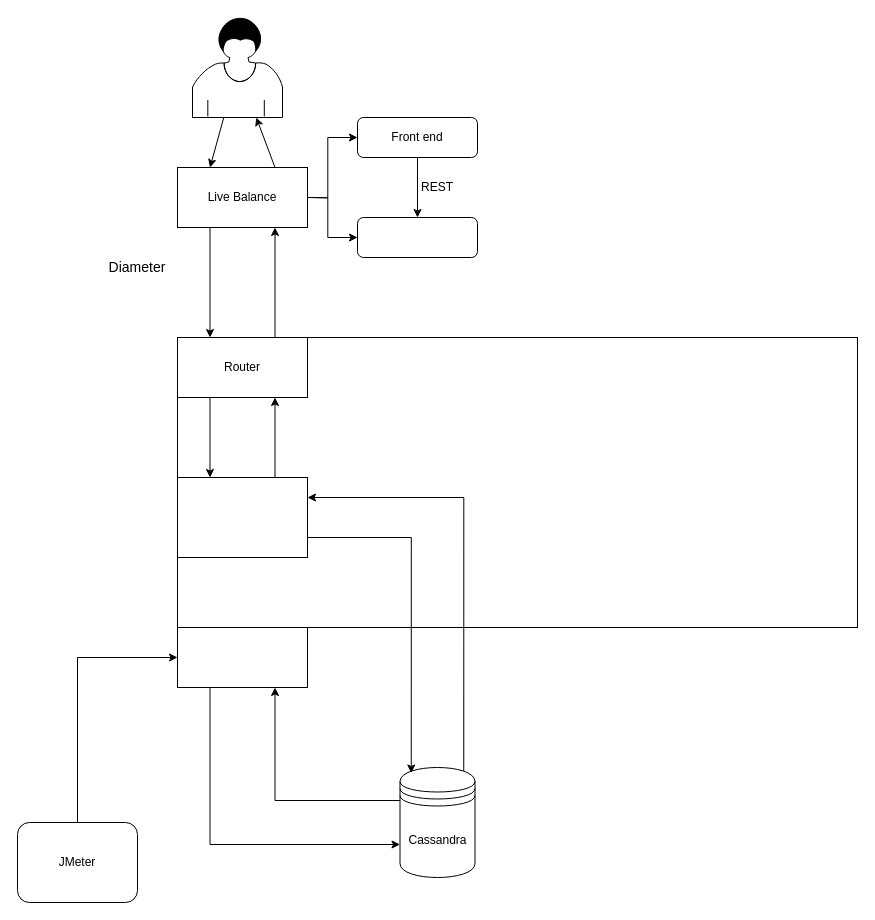
Image size: 875x920. Some labels were removed from this diagram. The centre of each missing label's shape, as x and y in pixels:
"Back end" belongs at (417,237).
"getBal()" belongs at (242,517).
"REST API" belongs at (242,657).
